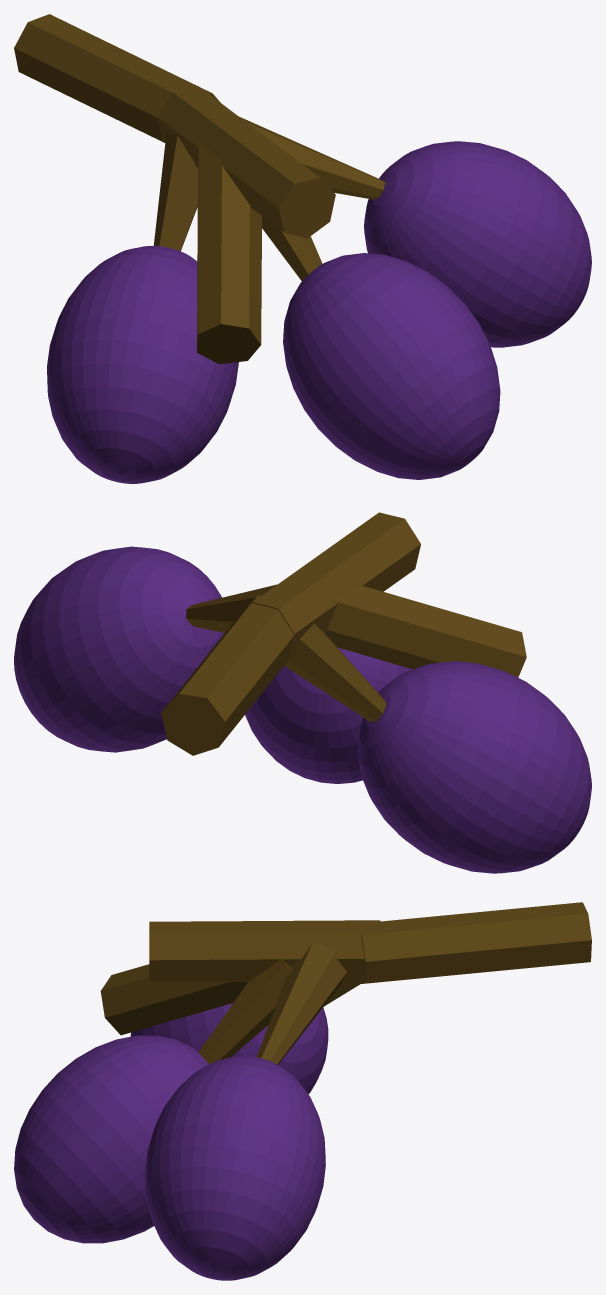
File: Barbar_berry.fbx
3 renders of one model, top to bottom at view 1: azimuth 30°, elevation 25°; view 2: azimuth 150°, elevation 25°; view 3: azimuth 270°, elevation 25°, orthographic. The views are drawn at different scales.
Visible parts, largest first — view 1: Cylinder; view 2: Cylinder; view 3: Cylinder.
Part boxes in pixels (box(x1,y1,x2,y2)): Cylinder: box(14, 14, 591, 483); Cylinder: box(14, 512, 591, 873); Cylinder: box(14, 902, 591, 1280).
Bounding box in the file's own units: 489 × 258 × 490.
